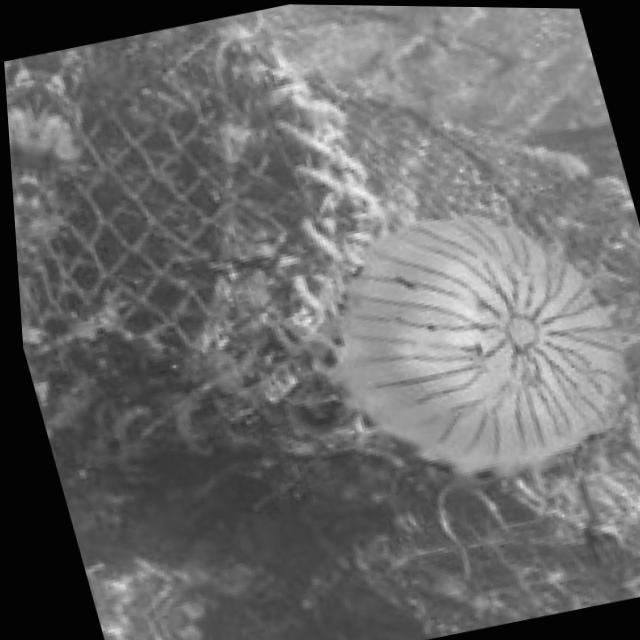Box-jellyfish: (275, 176, 640, 515)
